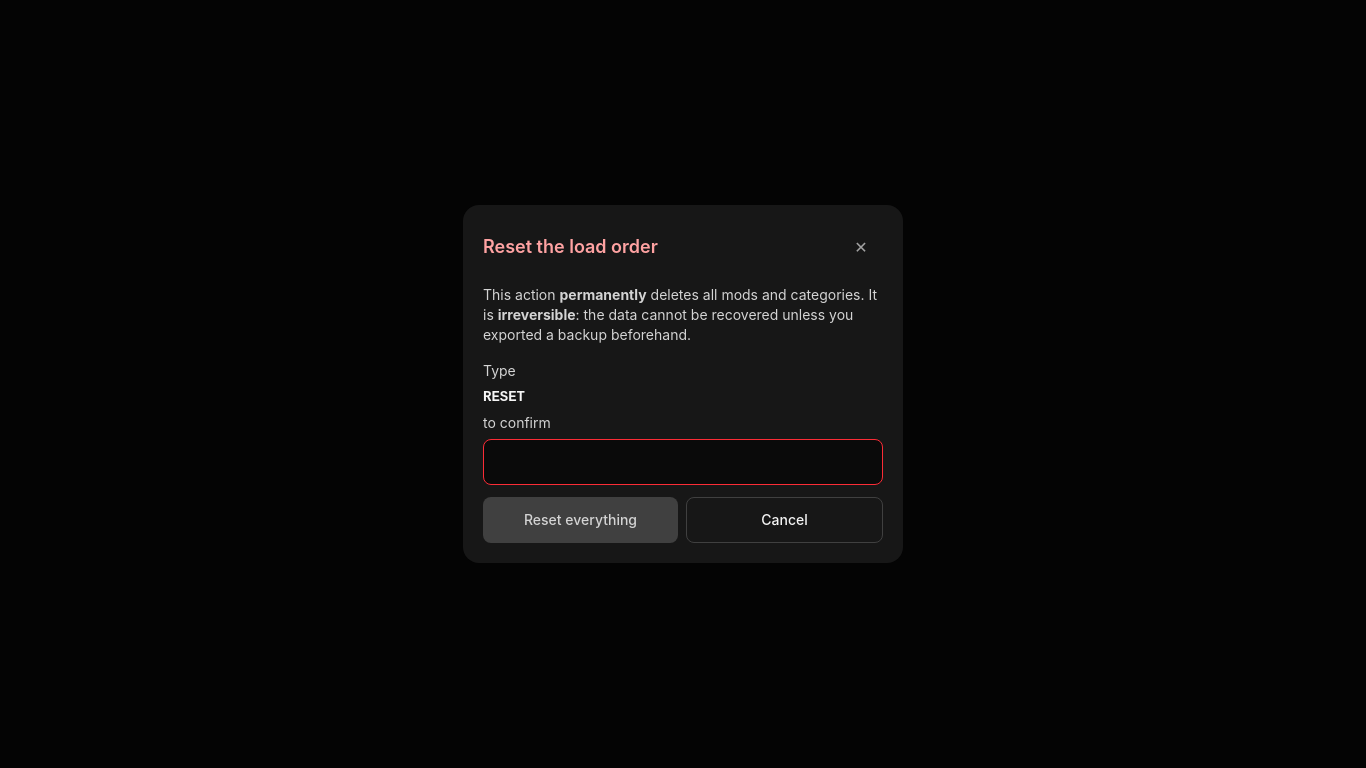
ResetConfirmModal › keeps the confirm button disabled until the exact word is typed
Expected: the button "Reset everything" is disabled, [483, 497, 678, 543]
Type "nope" into the field labelled "Type RESET to confirm" at x=683, y=462, box [483, 439, 883, 485]
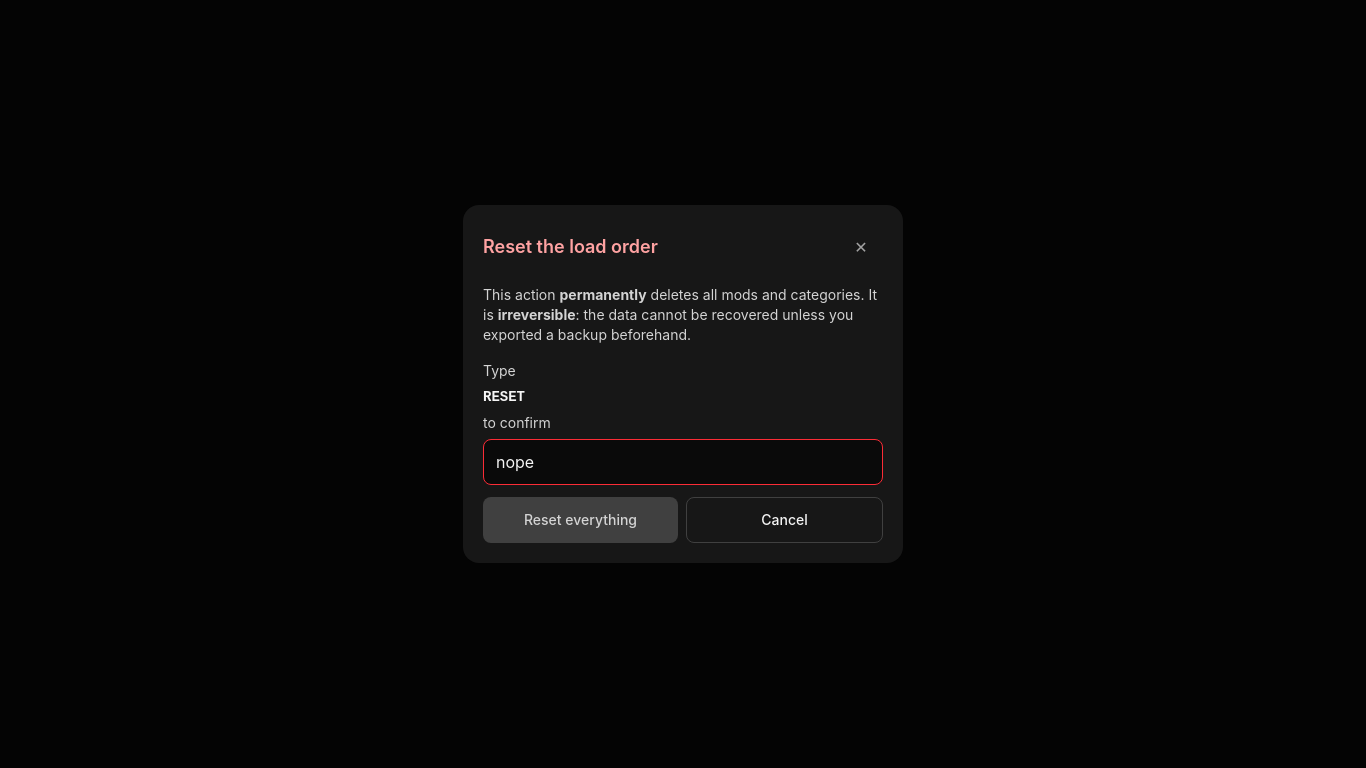
Expected: the button "Reset everything" is disabled, [483, 497, 678, 543]
Replace the text in the field labelled "Type RESET to confirm" with "RESET" at x=683, y=462, box [483, 439, 883, 485]
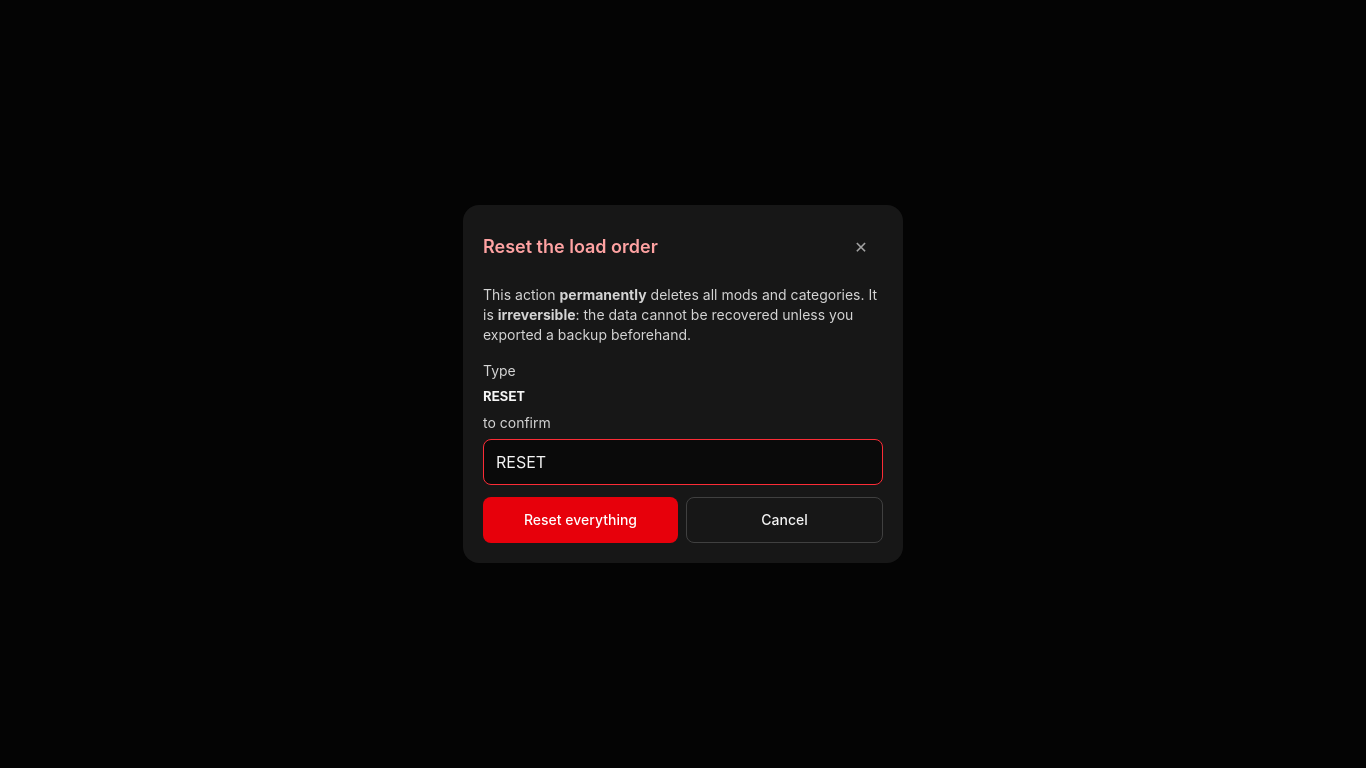
Expected: the button "Reset everything" is enabled, [483, 497, 678, 543]
